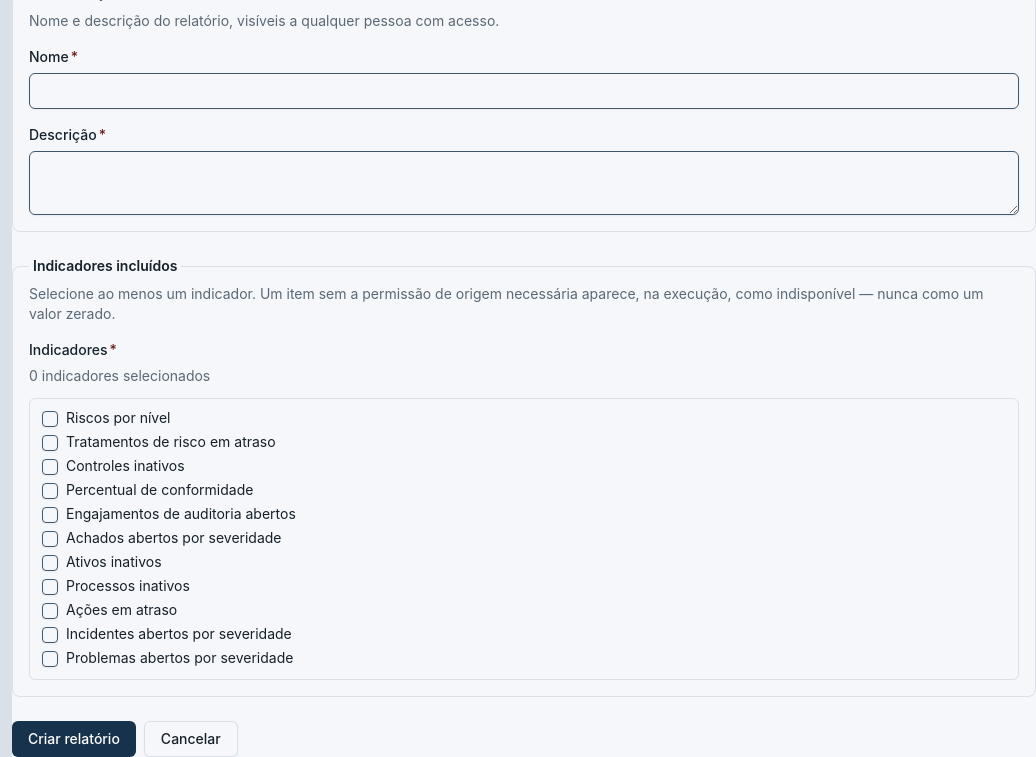
Scenario: ReportForm › requires name, description and at least one metric
Click the button "Criar relatório": [74, 739] box [12,721,136,756]
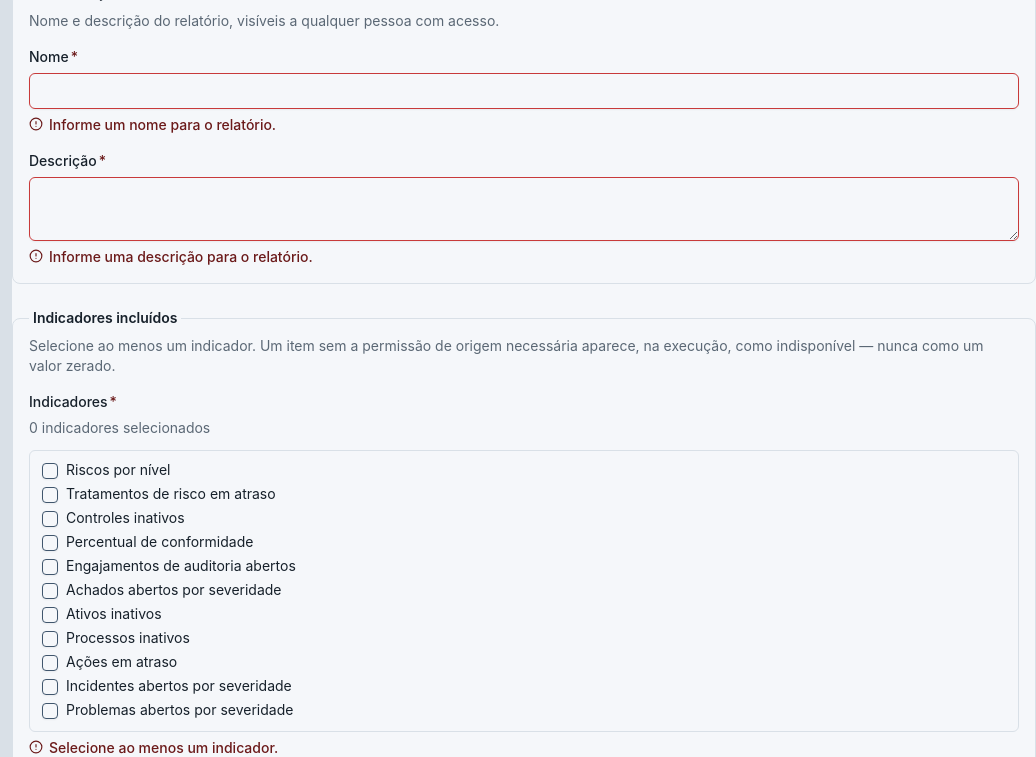
Now the text "Informe um nome para o relatório." is shown, box [49,115,276,135]
Now the text "Informe uma descrição para o relatório." is shown, box [49,247,313,267]
Now the text "Selecione ao menos um indicador." is shown, box [49,738,278,756]
